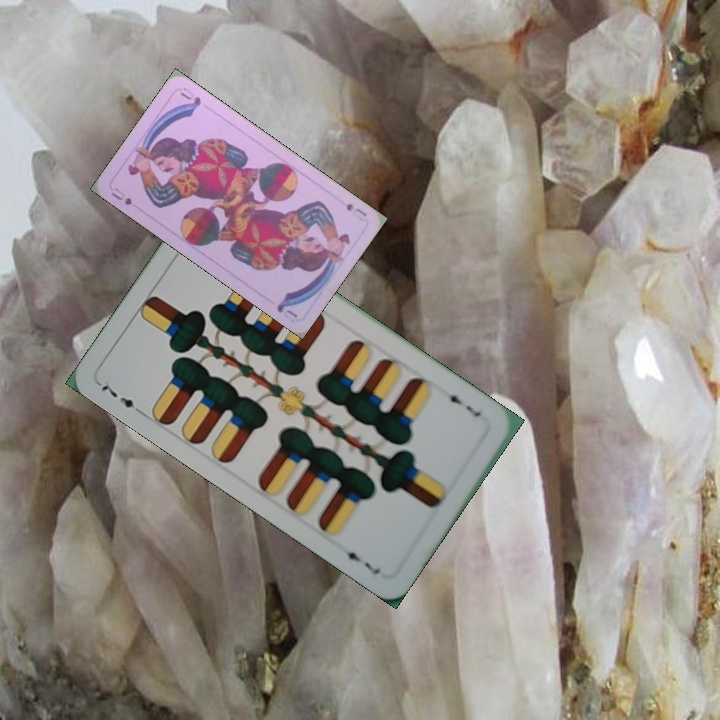E7: (94, 379, 146, 418), (442, 386, 484, 420)
SU: (107, 183, 135, 208), (342, 199, 369, 223)
